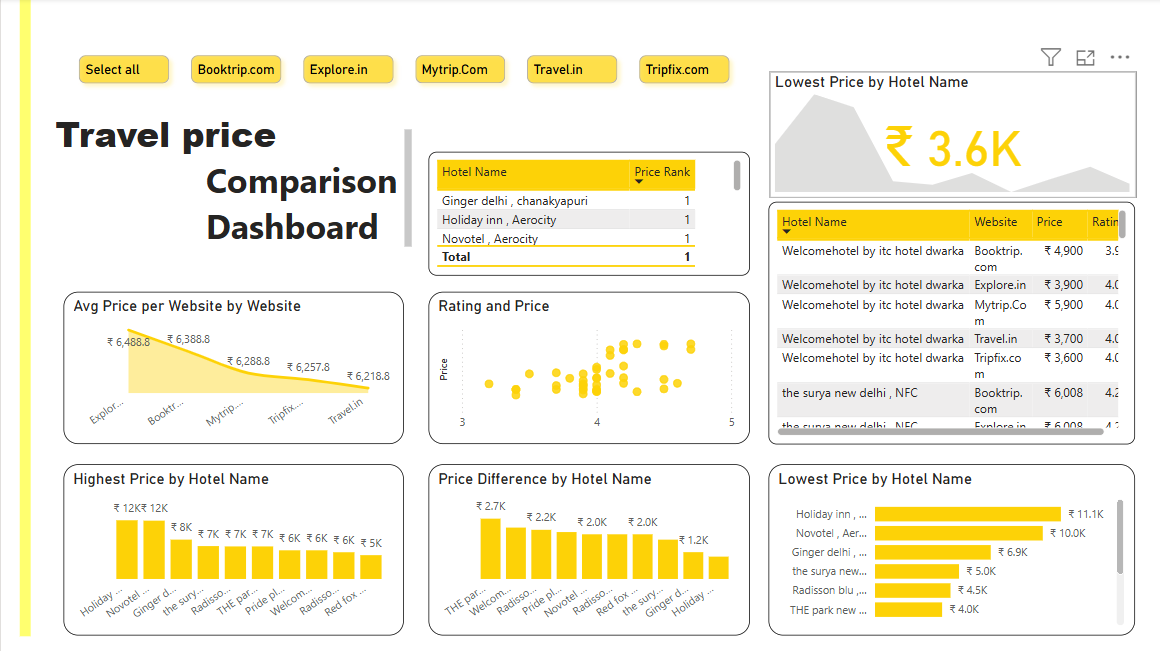

This screenshot's page, from the dashboard's own definition file:
{"tool":"powerbi","page":{"name":"Page 1","canvas":[1280,720],"ordinal":0},"visuals":[{"type":"barChart","fields":{"Category":["Hotels.Hotel Name"],"Y":["Hotels.Lowest Price"]},"box":[842.5,511.8,402.1,188],"z":0},{"type":"clusteredColumnChart","fields":{"Category":["Hotels.Hotel Name"],"Y":["Hotels.Highest Price"]},"box":[68.6,511.8,373.2,188],"z":1000},{"type":"lineChart","fields":{"Category":["Hotels.Website"],"Y":["Hotels.Avg Price per Website"]},"box":[68.6,322.5,373.2,167.4],"z":2000},{"type":"tableEx","fields":{"Values":["Hotels.Hotel Name","Hotels.Price Rank"]},"box":[469.3,168.8,352.7,135.8],"z":3000},{"type":"tableEx","fields":{"Values":["Hotels.Hotel Name","Hotels.Website","Hotels.Price","Hotels.Rating"]},"box":[842.5,223.7,402.1,266.2],"z":4000},{"type":"kpi","fields":{"TrendLine":["Hotels.Hotel Name"],"Indicator":["Hotels.Lowest Price"]},"box":[843.9,81,402.1,138.6],"z":5000},{"type":"columnChart","fields":{"Category":["Hotels.Hotel Name"],"Y":["Hotels.Price Difference"]},"box":[469.3,511.8,352.7,188],"z":6000},{"type":"scatterChart","fields":{"Y":["Hotels.Price"],"X":["Hotels.Rating"]},"box":[469.3,322.5,352.7,167.4],"z":7000},{"type":"advancedSlicerVisual","fields":{"Values":["Hotels.Website"]},"box":[68.6,50.8,753.3,60.4],"z":8000},{"type":"textbox","box":[54.9,129,400.7,149.6],"z":8001},{"type":"shape","box":[20.6,0,12.3,720.4],"z":8002}]}

Visuals, with their boxes in screenshot pixels (x1, y1, x2, y2), scaled from the page's 1280x720 canvas onto the 1160x651 screenshot:
barChart - Hotels.Hotel Name x Hotels.Lowest Price: left=764, top=463, right=1128, bottom=633
clusteredColumnChart - Hotels.Hotel Name x Hotels.Highest Price: left=62, top=463, right=400, bottom=633
lineChart - Hotels.Website x Hotels.Avg Price per Website: left=62, top=292, right=400, bottom=443
tableEx - Hotels.Hotel Name x Hotels.Price Rank: left=425, top=153, right=745, bottom=275
tableEx - Hotels.Hotel Name x Hotels.Website: left=764, top=202, right=1128, bottom=443
kpi - Hotels.Hotel Name x Hotels.Lowest Price: left=765, top=73, right=1129, bottom=199
columnChart - Hotels.Hotel Name x Hotels.Price Difference: left=425, top=463, right=745, bottom=633
scatterChart - Hotels.Price x Hotels.Rating: left=425, top=292, right=745, bottom=443
advancedSlicerVisual - Hotels.Website: left=62, top=46, right=745, bottom=101
textbox: left=50, top=117, right=413, bottom=252
shape: left=19, top=0, right=30, bottom=650
